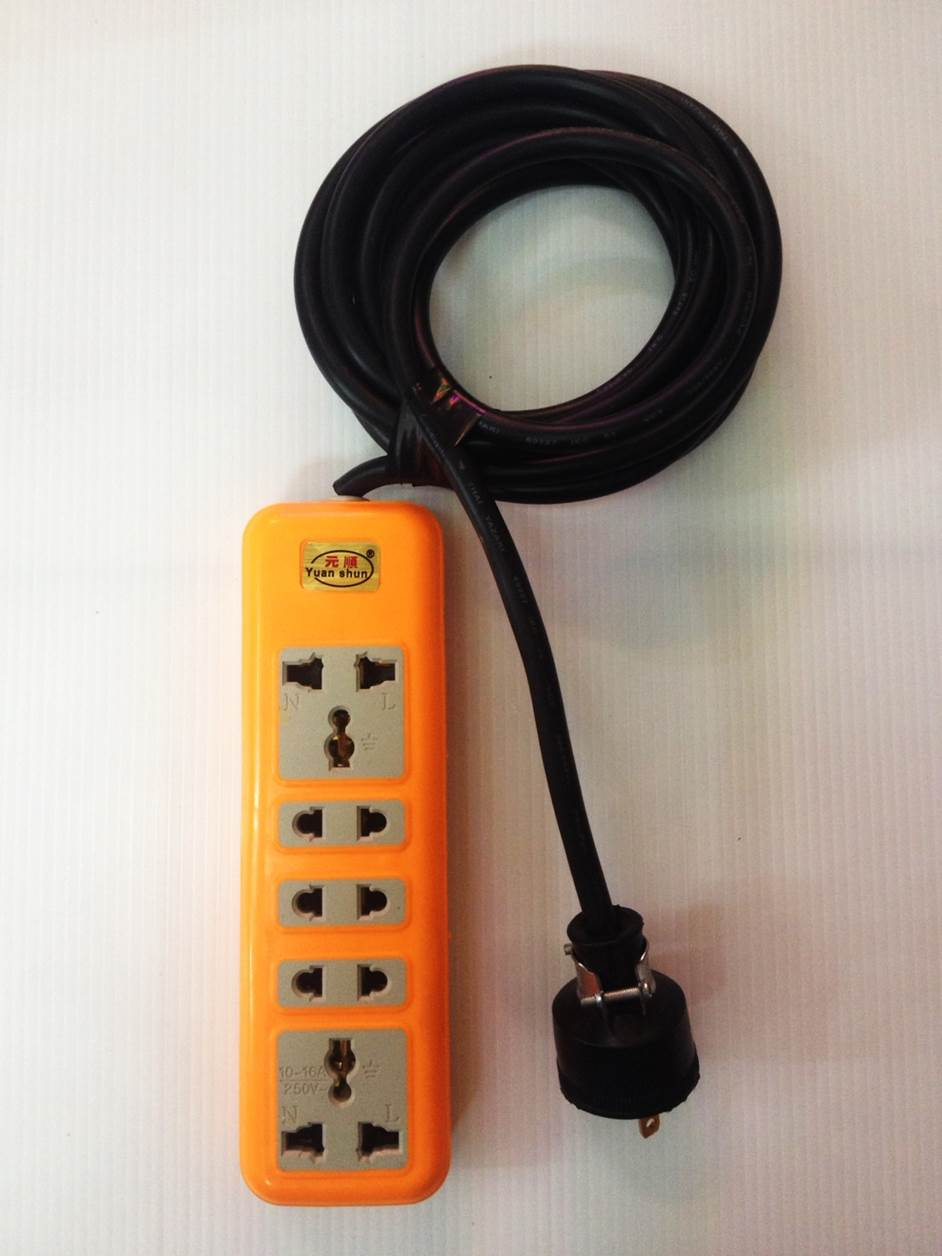Three_eye_plug: (221, 480, 468, 1217)
